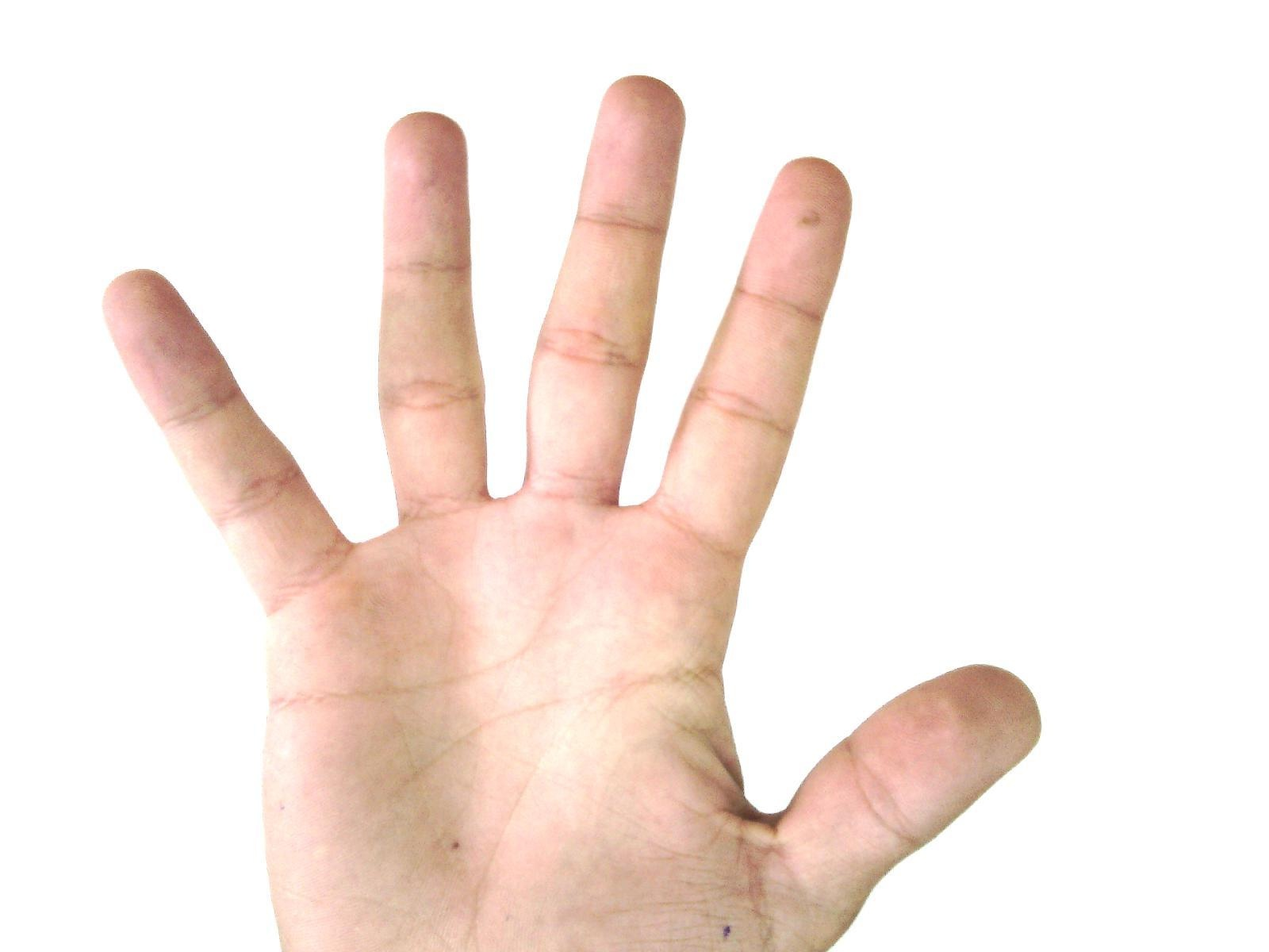open_palm: (99, 73, 1045, 951)
